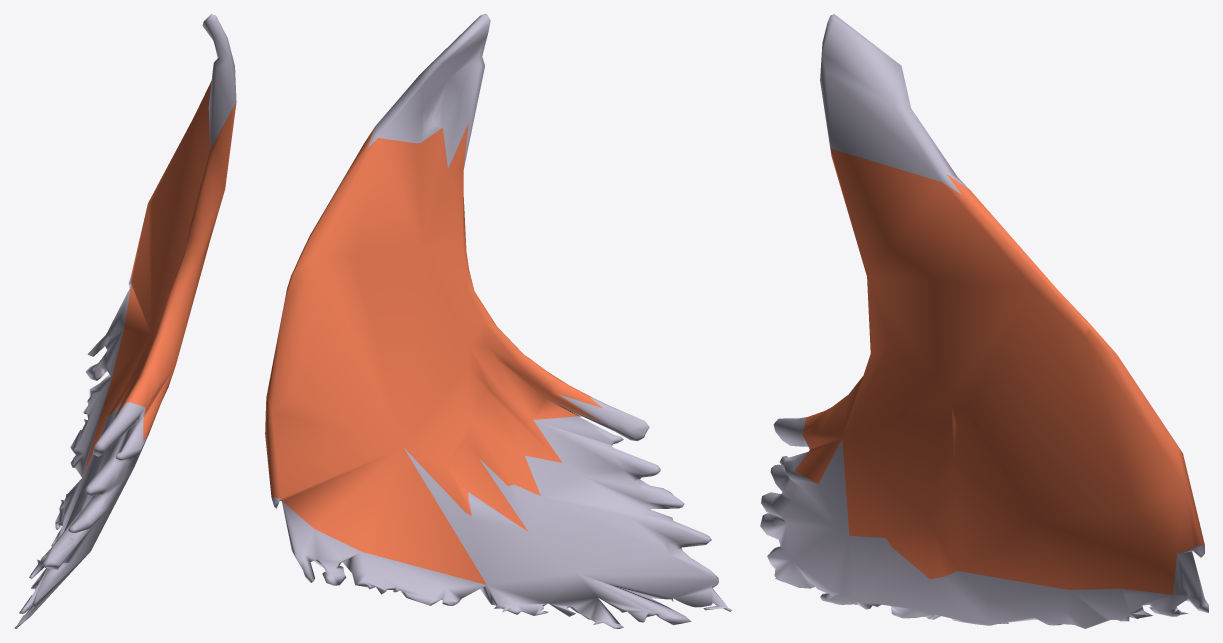
Rendered from Depressor_anguli_oris.l_Generated_Mesh_From_X3D.987.glb.
The picture shows the model from 3 angles, left to right: view 1: azimuth 30°, elevation 25°; view 2: azimuth 150°, elevation 25°; view 3: azimuth 270°, elevation 25°; orthographic projection. The views are drawn at different scales.
Visible parts, largest first — view 1: Depressor_anguli_oris.l_Generated_Mesh_From_X3D.987; view 2: Depressor_anguli_oris.l_Generated_Mesh_From_X3D.987; view 3: Depressor_anguli_oris.l_Generated_Mesh_From_X3D.987.
Boxes of the visible parts, <box> form: Depressor_anguli_oris.l_Generated_Mesh_From_X3D.987: <box>14,14,236,628</box>; Depressor_anguli_oris.l_Generated_Mesh_From_X3D.987: <box>265,14,731,628</box>; Depressor_anguli_oris.l_Generated_Mesh_From_X3D.987: <box>760,14,1208,628</box>.
Bounding box in the file's own units: 0.0244 × 0.0417 × 0.024.
